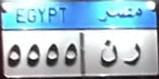5: (61, 41, 82, 68), (41, 42, 62, 67), (6, 44, 24, 71), (25, 42, 41, 68)
ر: (121, 38, 147, 65)
ن: (98, 38, 121, 66)
